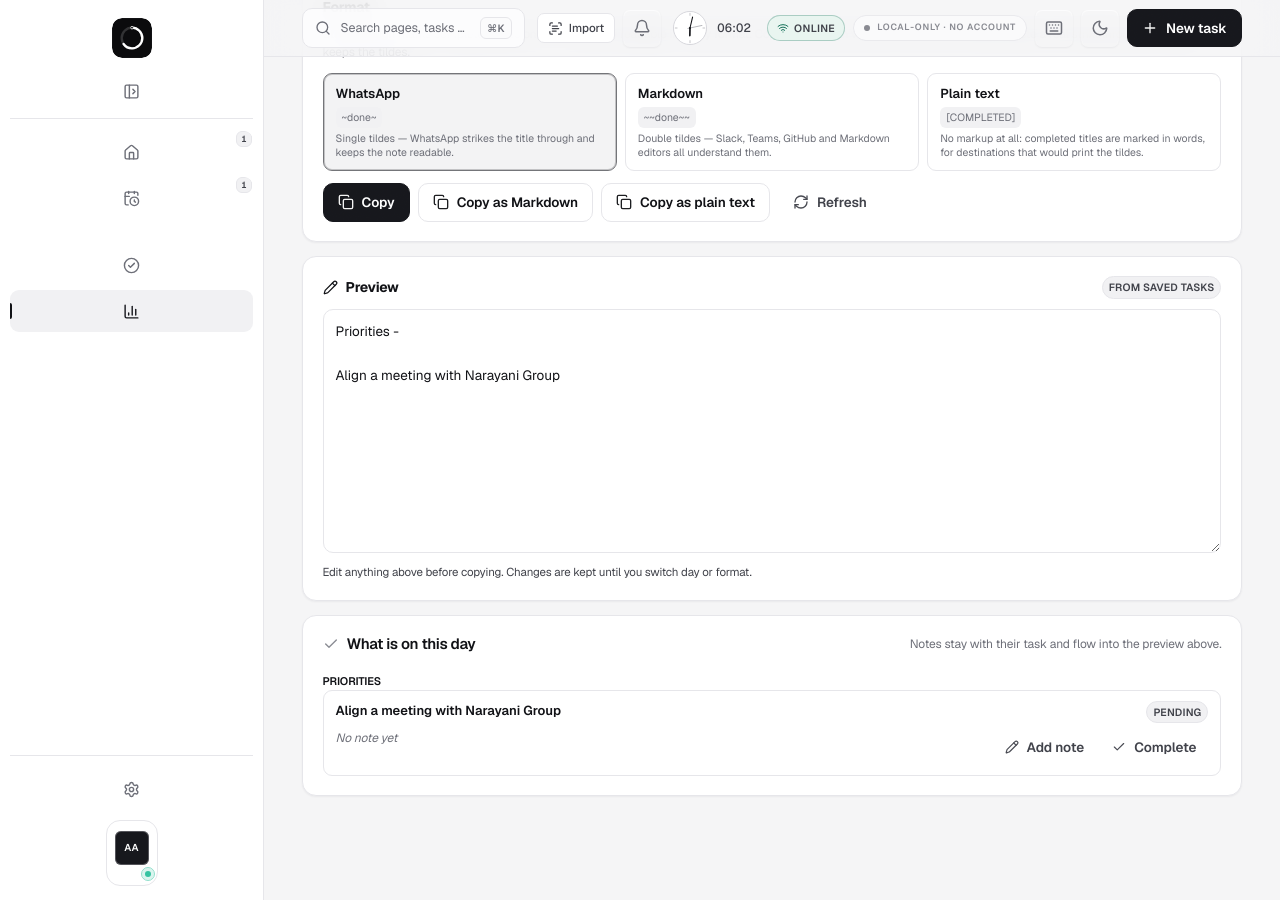
Test: the daily update › updates when a note is edited in the day list
The width and height of the screenshot is (1280, 900).
(page scrolled)
Check: the element with class "sidebar" is shown, box top-left (0, 0), bottom-right (264, 899)
Click the button "Add note" at (1044, 747), box top-left (992, 729), bottom-right (1096, 765)
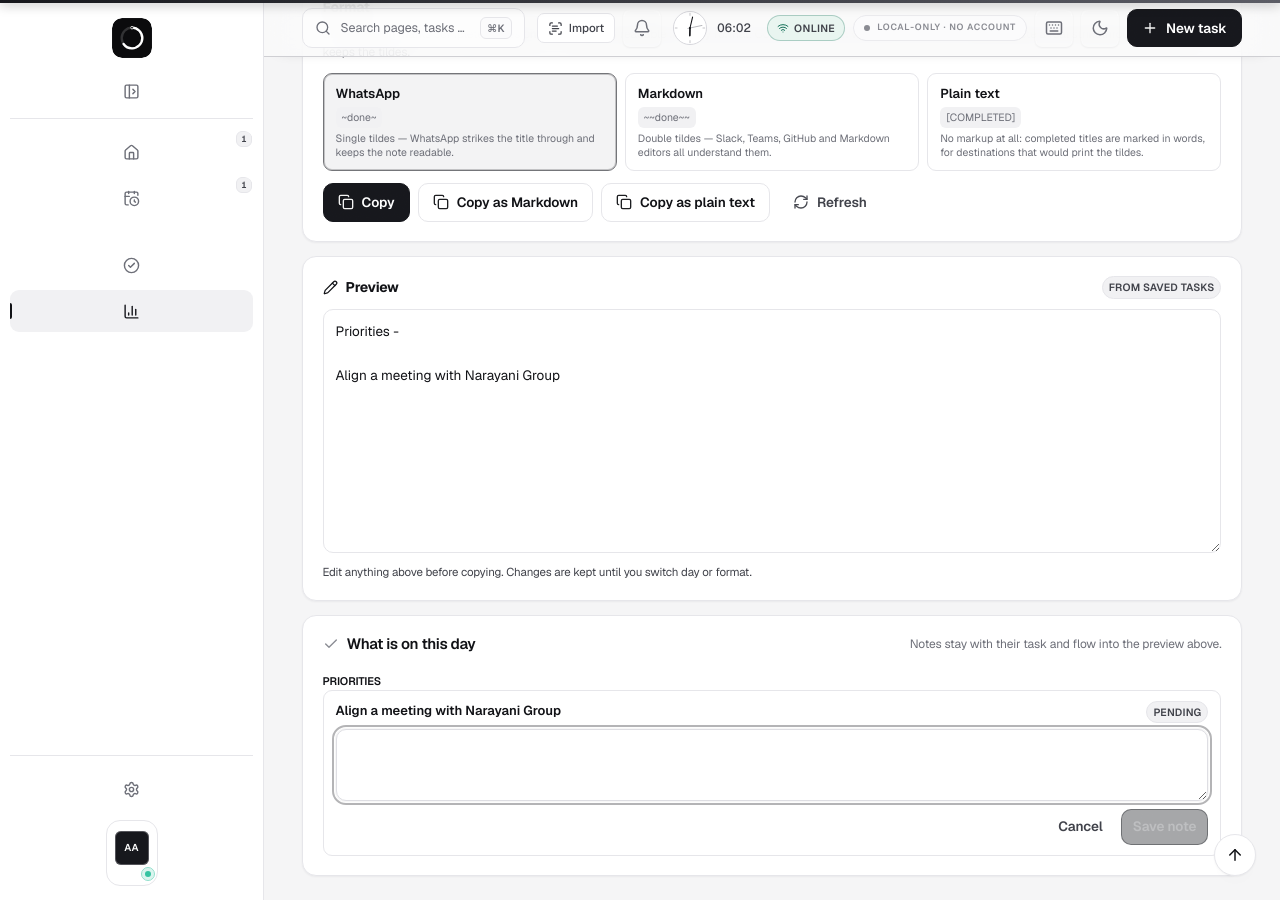
Type "Did not connect. Follow up tomorrow." into the text box named "Note for Align a meeting with Narayani Group" at (772, 765), box top-left (336, 729), bottom-right (1208, 801)
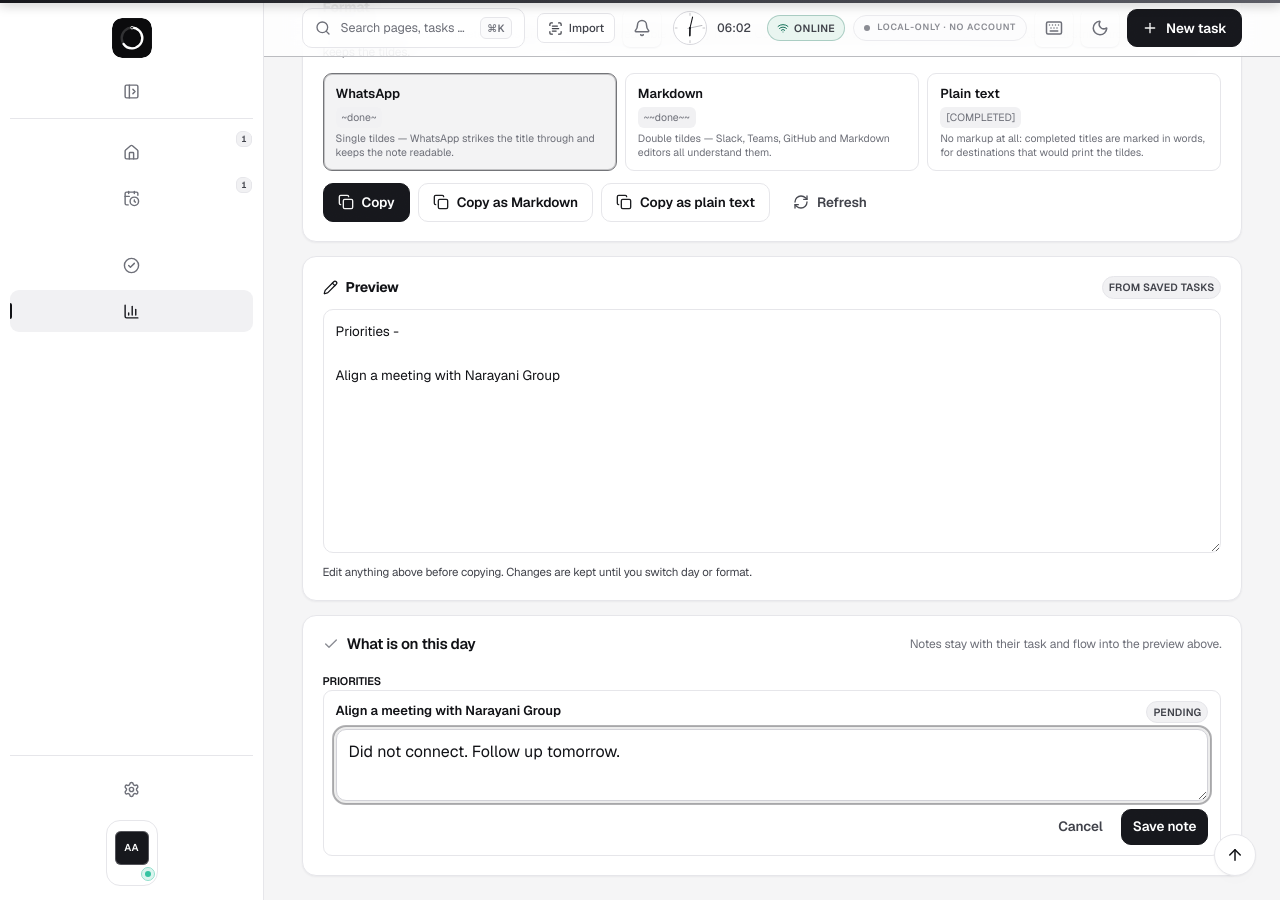
Click the button "Save note" at (1165, 827), box top-left (1121, 809), bottom-right (1208, 845)
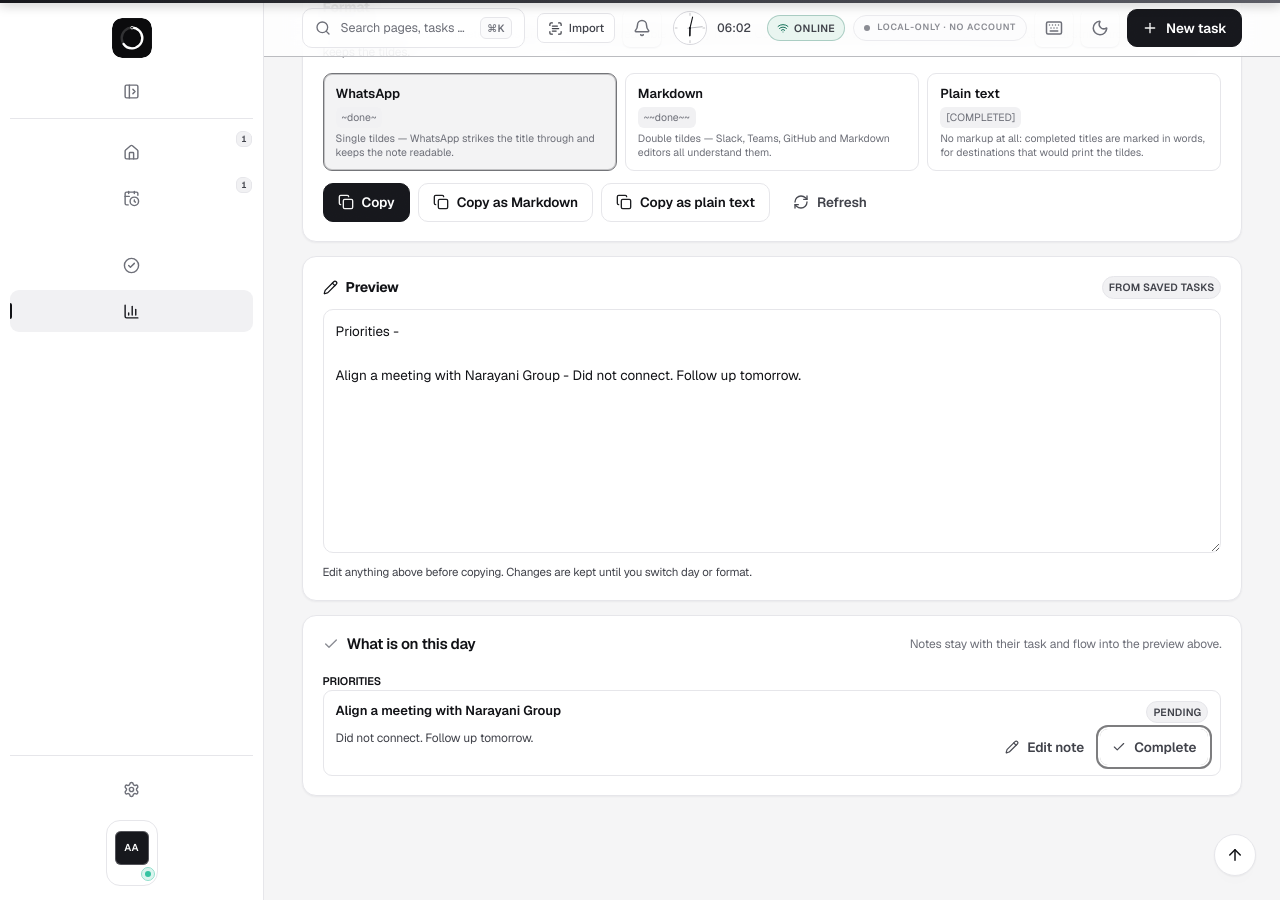
Check: the text "Did not connect. Follow up tomorrow." is shown, box top-left (336, 730), bottom-right (533, 746)
